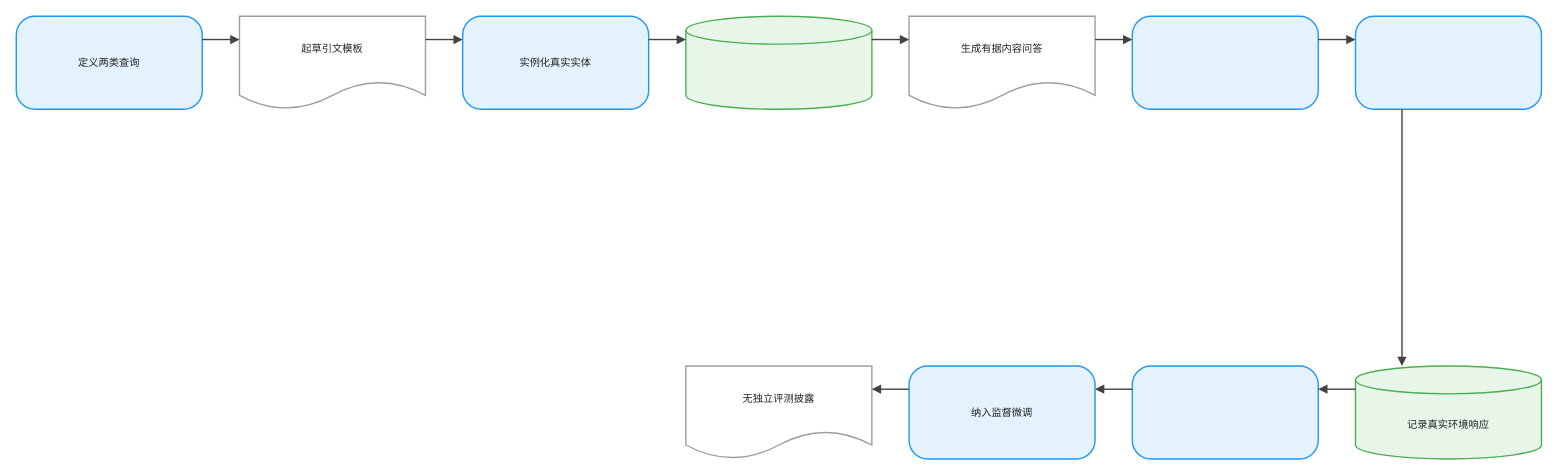
This 1559x476 diagram has some shape labels left out. Each missing label, with the centre of its shape:
"合并两类查询" goes at point (1225, 62).
"构建工具轨迹" goes at point (1225, 412).
"检索相关论文" goes at point (778, 62).
"运行工具智能体" goes at point (1448, 62).
